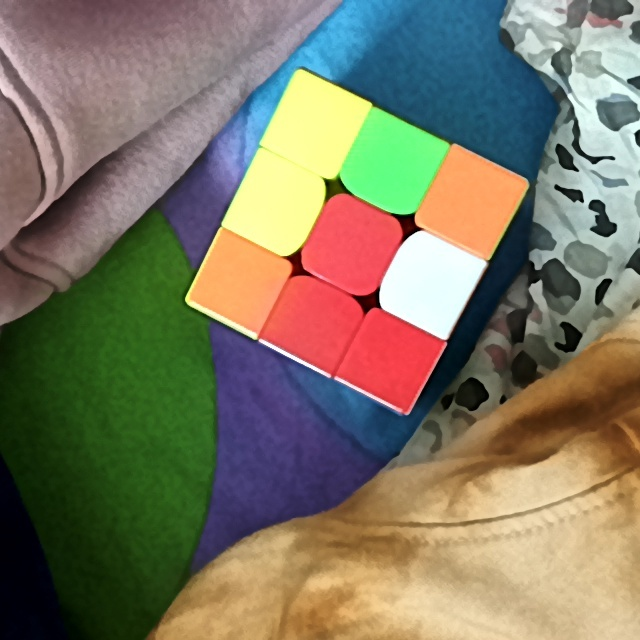tile: (441, 170, 504, 233), (284, 92, 346, 152), (323, 213, 383, 274), (359, 135, 420, 193), (210, 253, 272, 309), (399, 253, 459, 310), (282, 294, 344, 349), (248, 175, 308, 231), (361, 331, 418, 389)
